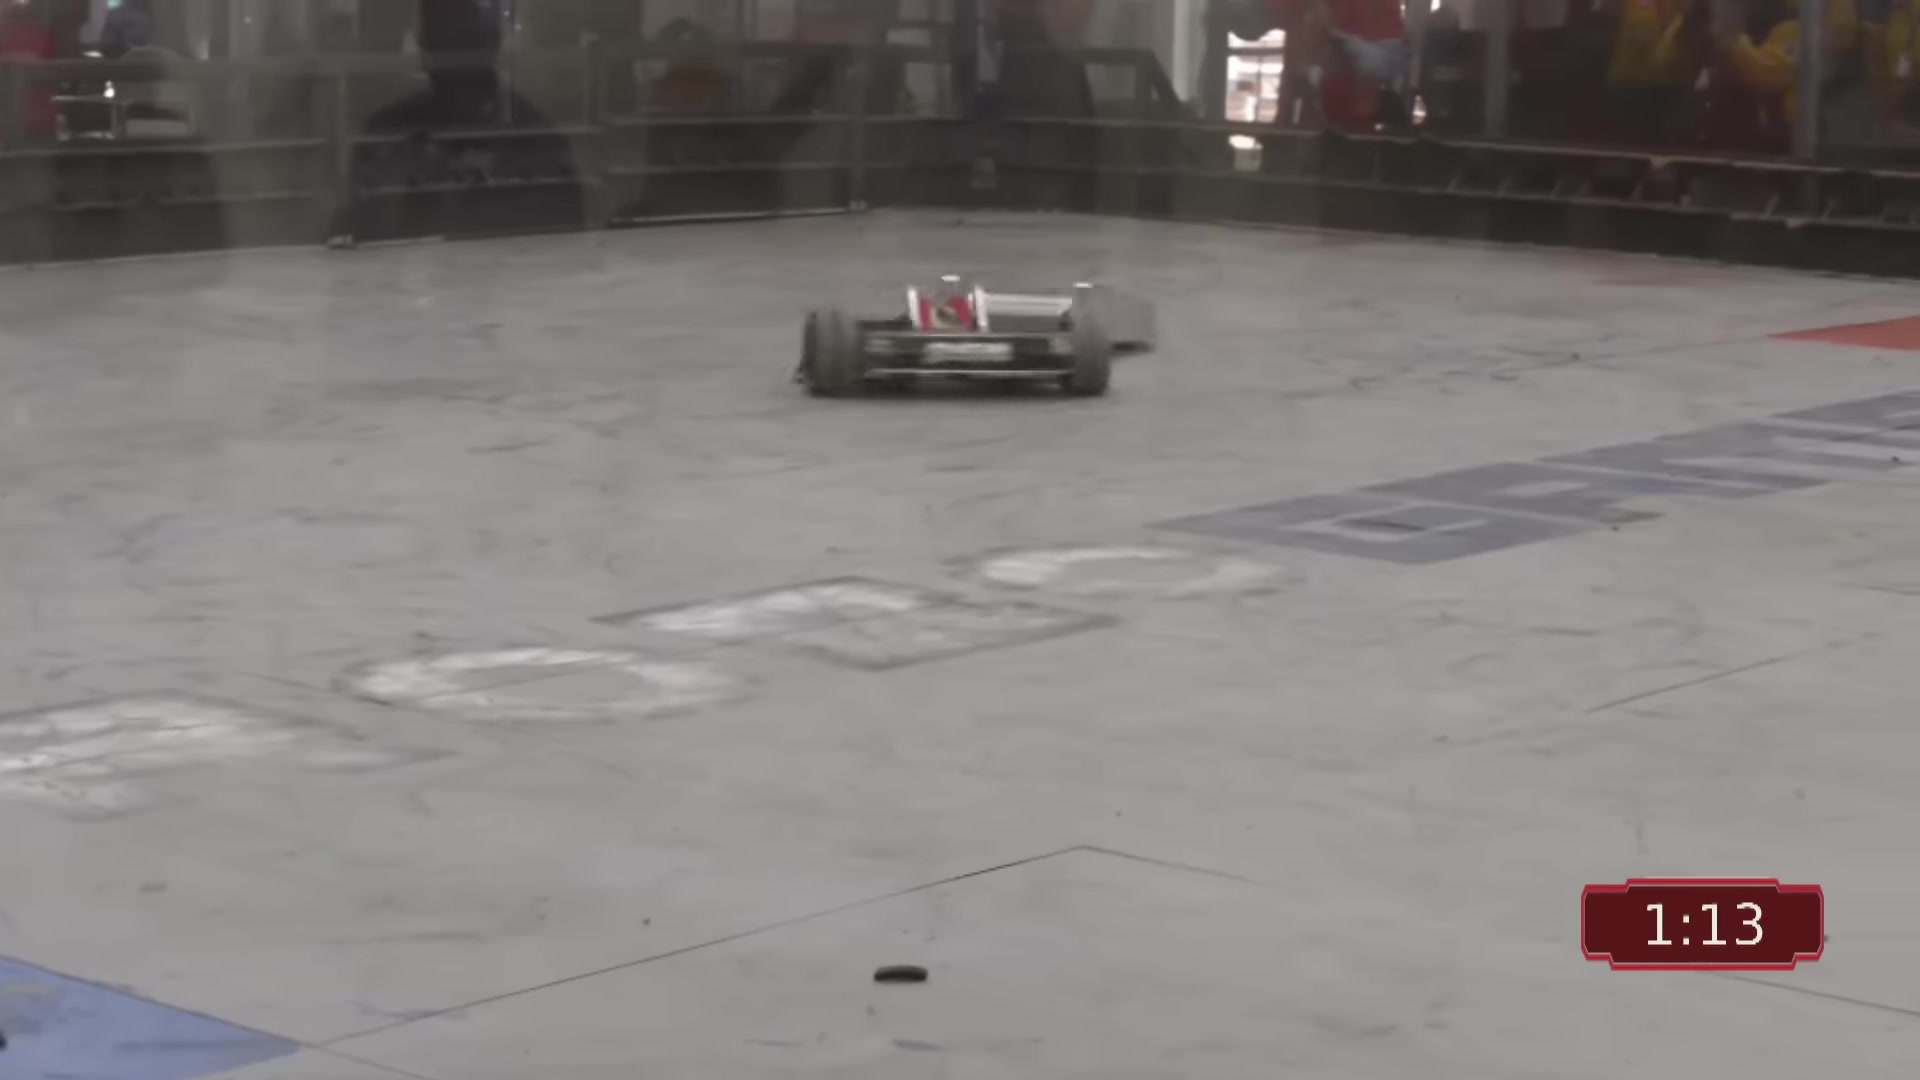combatbot: (804, 286, 1110, 400), (936, 274, 1159, 355)
